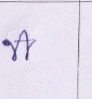i_matra: (9, 30, 27, 60)
